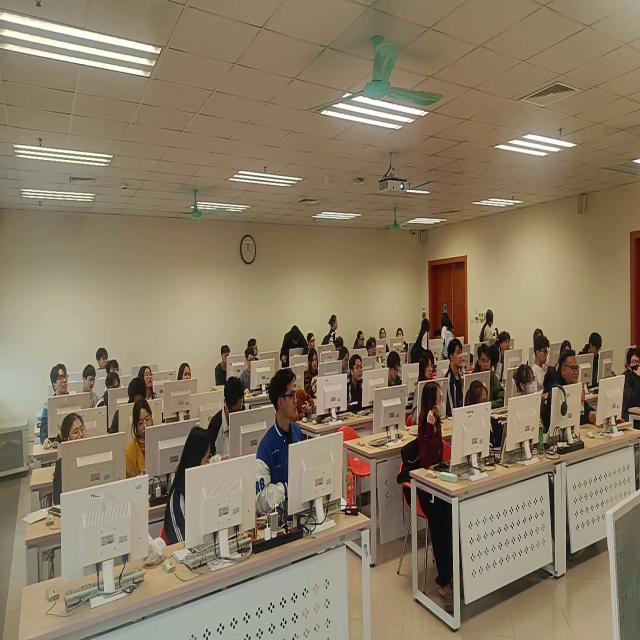raise_head: (257, 368, 299, 518), (53, 414, 87, 507), (41, 364, 70, 451), (418, 381, 445, 470), (413, 352, 435, 423), (446, 339, 464, 416), (620, 348, 640, 414), (348, 355, 364, 413), (514, 360, 538, 395), (138, 365, 161, 401), (561, 351, 581, 385), (498, 331, 511, 363), (178, 361, 193, 381), (97, 347, 109, 369), (367, 336, 378, 358), (107, 359, 120, 377), (308, 333, 317, 349), (380, 328, 387, 341), (398, 327, 405, 340)
stand: (281, 325, 309, 369), (412, 319, 431, 365), (441, 312, 455, 362), (322, 314, 339, 347), (480, 310, 497, 343)
using_computer: (164, 427, 211, 547), (208, 376, 247, 462), (465, 380, 506, 450), (126, 401, 155, 484), (473, 344, 506, 410), (110, 378, 147, 434), (582, 332, 603, 383), (532, 337, 551, 393), (78, 366, 99, 410), (97, 373, 121, 410), (239, 348, 257, 396), (305, 349, 322, 399), (215, 346, 231, 387), (388, 352, 402, 387), (557, 341, 572, 370), (337, 347, 350, 376), (355, 330, 367, 351), (335, 337, 345, 352), (534, 328, 544, 343)
